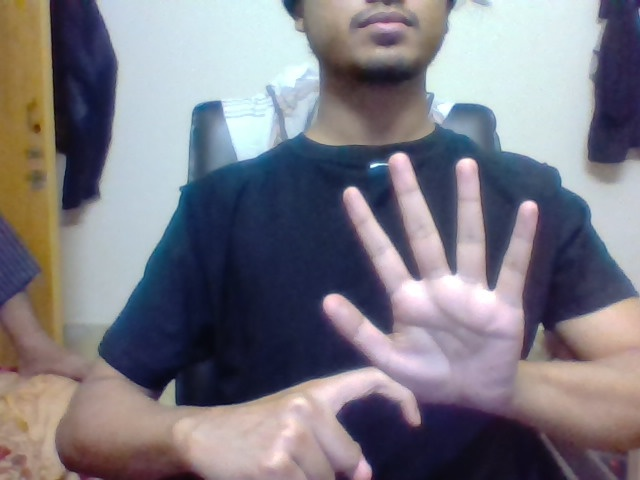R: (301, 365, 423, 480)
